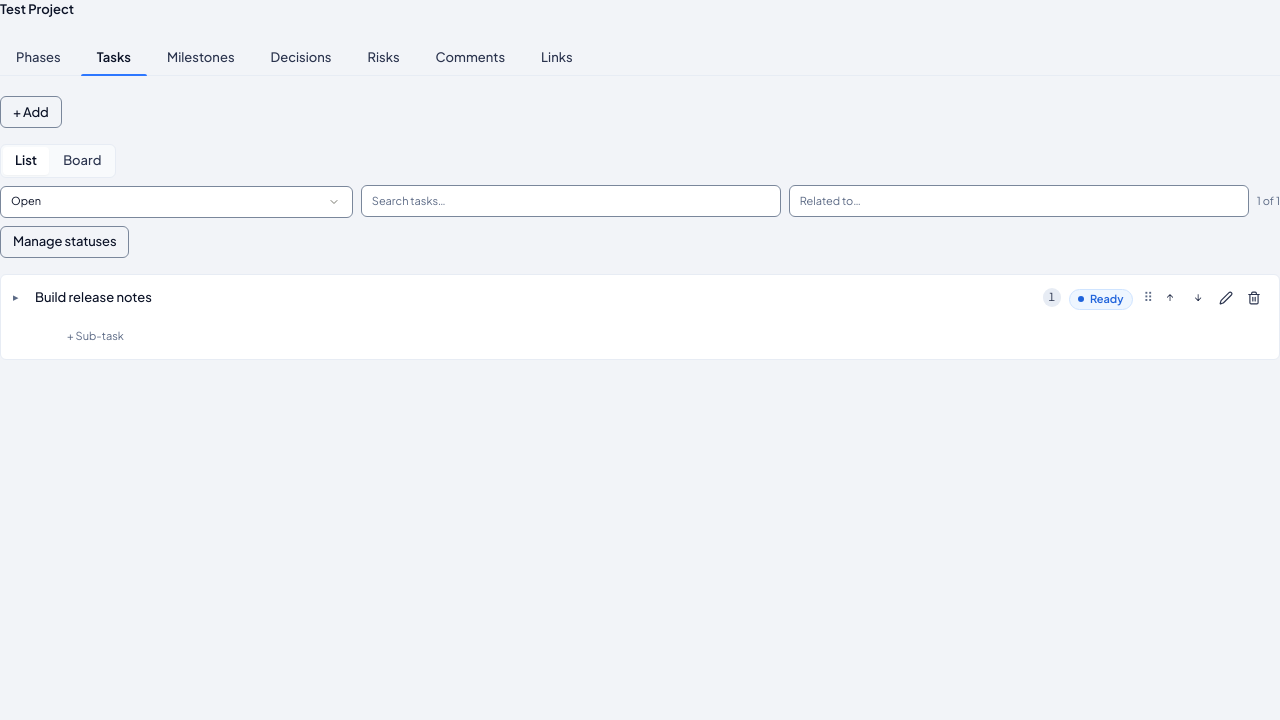
PlanningPanel › shows a task connection from the project-wide collection without another detail read
The image size is (1280, 720).
Expected: the text "Build release notes" is shown, 35,289 -> 152,305
Expected: the text named "1 connection; open Build release notes details" is shown, 1043,288 -> 1061,307
Click the button "▸ Build release notes 1" at x=93, y=297, box 13,288 -> 1061,307
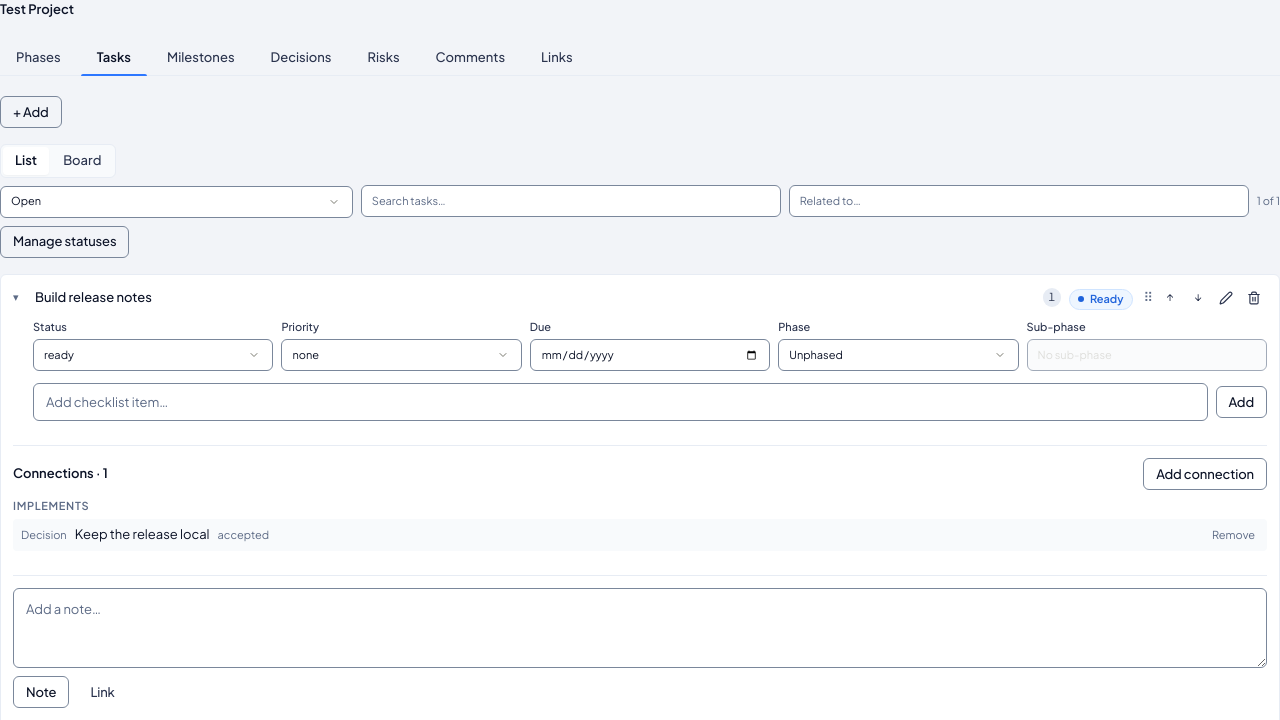
Result: the heading "Connections · 1" is shown at 13,464 -> 108,484
Result: the text "Implements" is shown at 13,499 -> 89,512
Result: the text "Keep the release local" is shown at 75,525 -> 210,544
